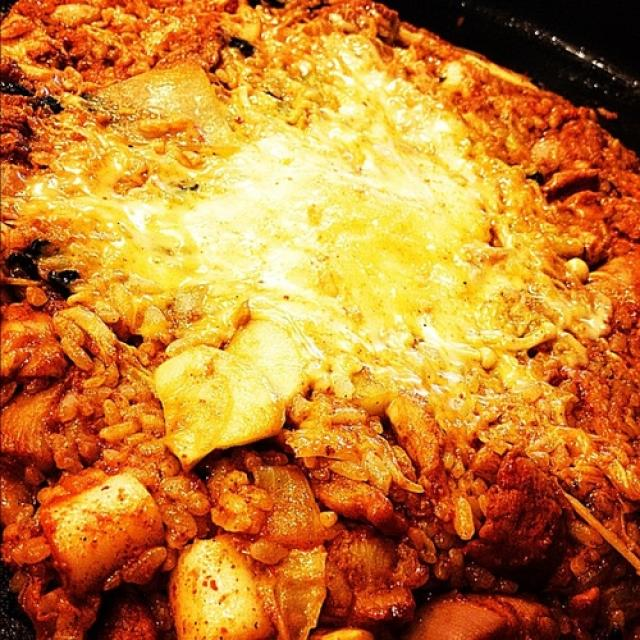鸡肉料理 含炸鸡: (8, 23, 631, 604)
